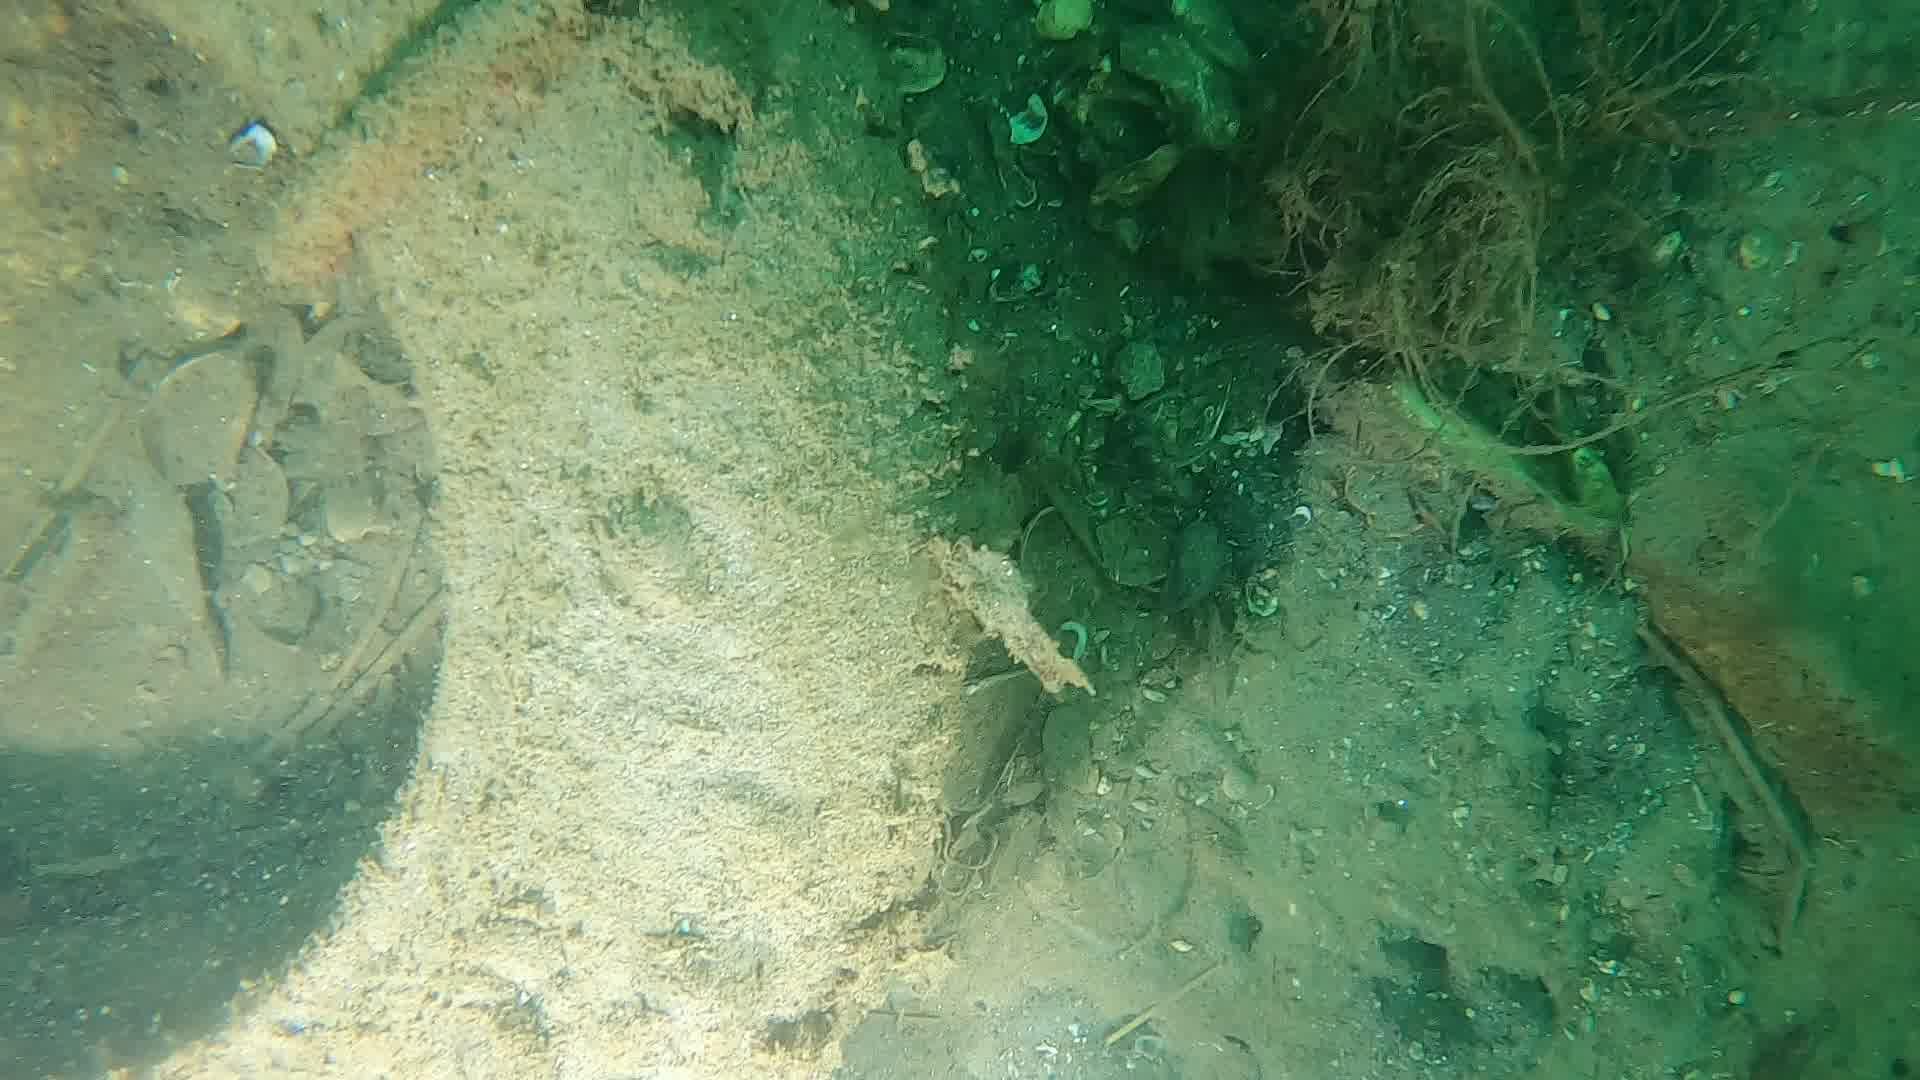tire: (0, 0, 976, 1080)
